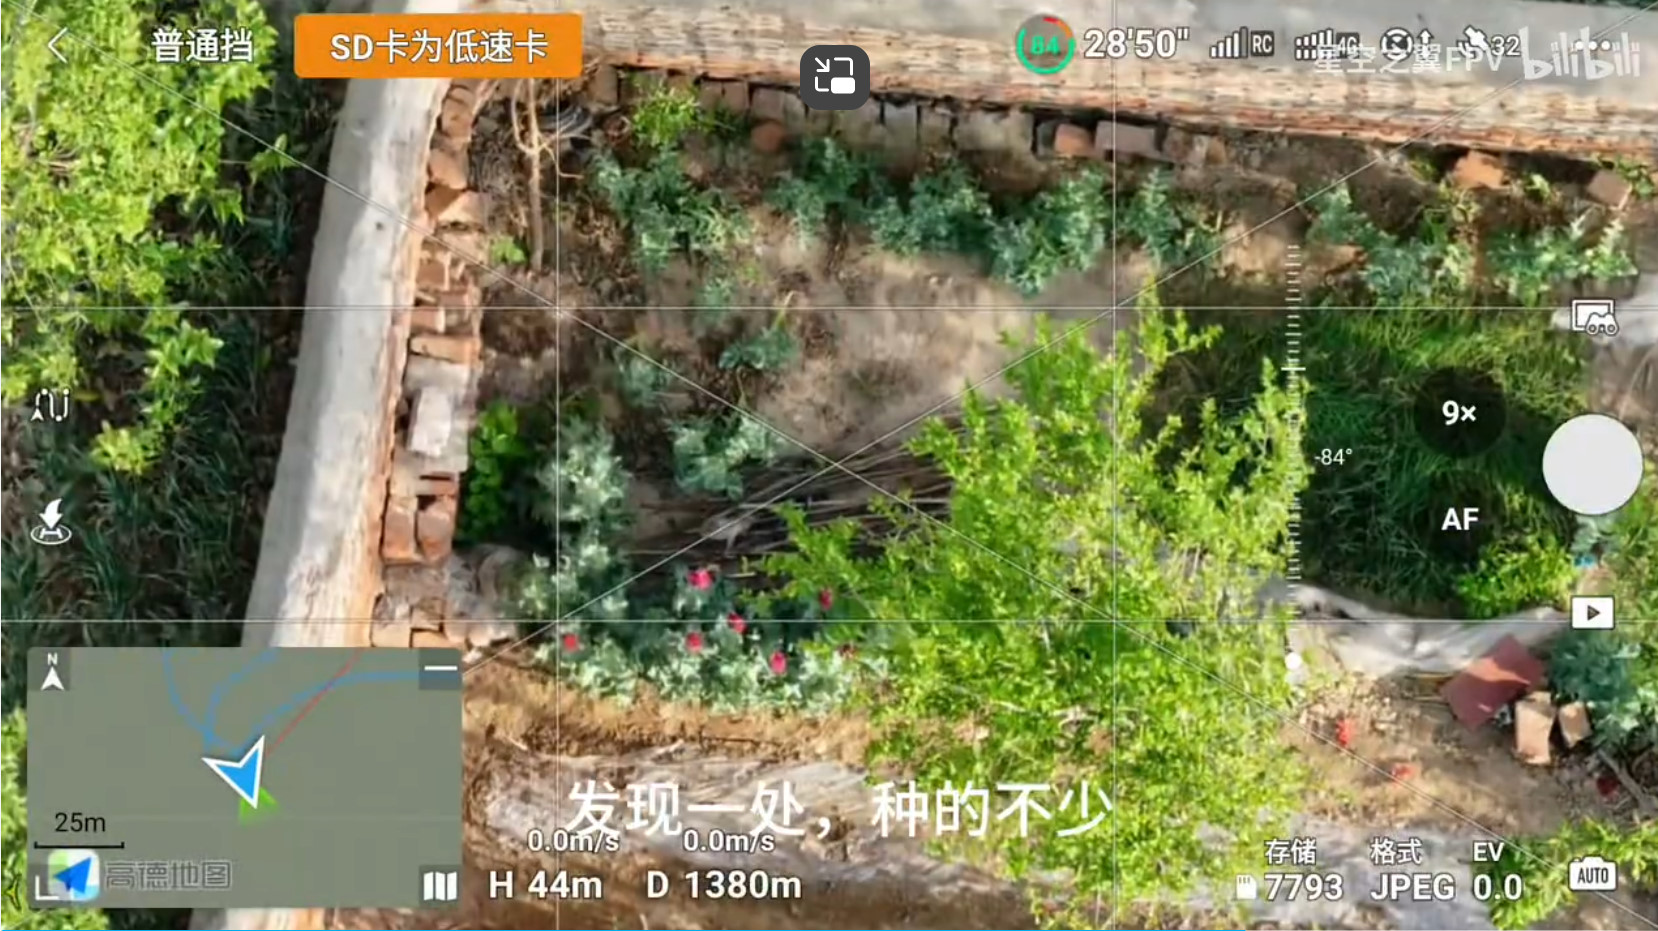Poppy: (770, 125, 1247, 294), (534, 532, 881, 719), (1292, 168, 1481, 302), (590, 143, 761, 267), (517, 399, 645, 524), (647, 397, 790, 506), (1496, 201, 1643, 300), (720, 310, 811, 386), (598, 330, 682, 412)
